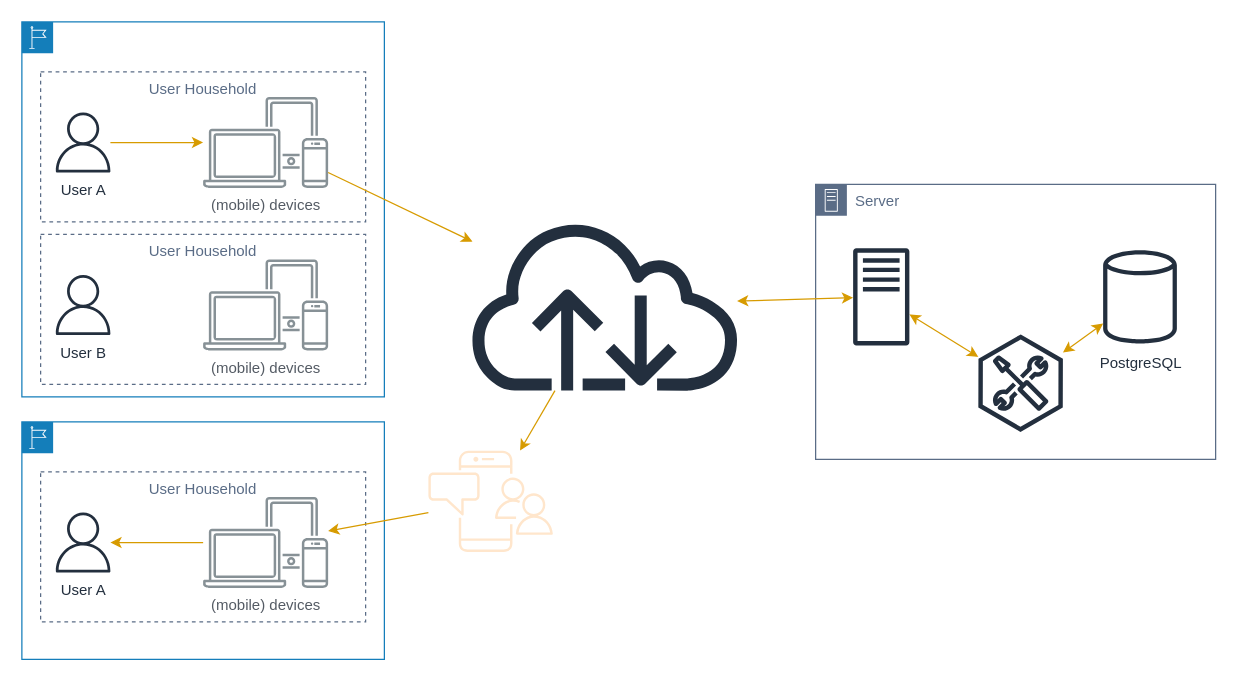
The diagram is 1238 pixels wide and 681 high, and some of its shapes have lost their labels. The shapes that lost their labels are listed below. From the top down, each one's box as (x1, y1, x2, y2) in pixels, then its label:
(21, 21, 384, 397): Region - 4020, Linz
(852, 248, 909, 345): Web Server
(978, 334, 1062, 431): Postgrest Client
(427, 449, 553, 552): notification
(21, 421, 384, 659): Region - 4060, Leonding
